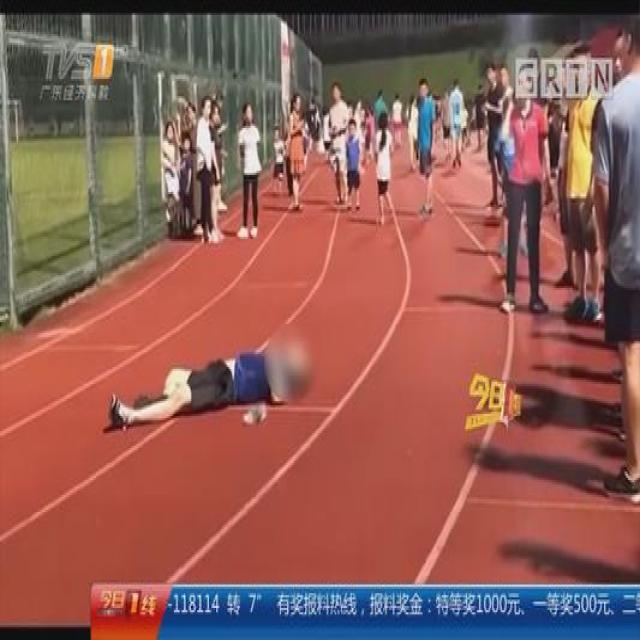10-: (101, 2, 639, 499)
down: (106, 326, 312, 433)
